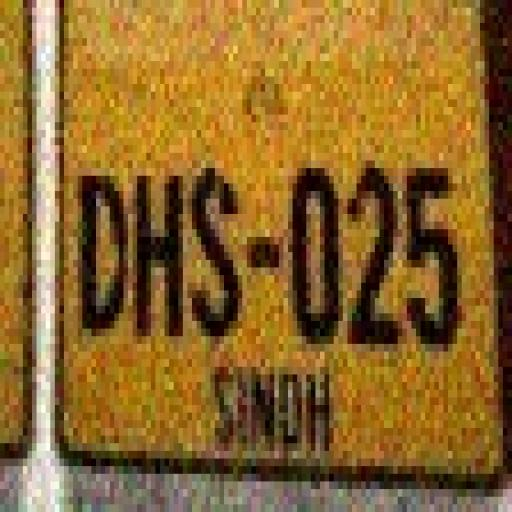0: (294, 176, 343, 336)
2: (346, 156, 396, 335)
5: (404, 160, 472, 370)
D: (74, 164, 128, 361)
H: (130, 160, 180, 352)
S: (184, 163, 242, 344)
